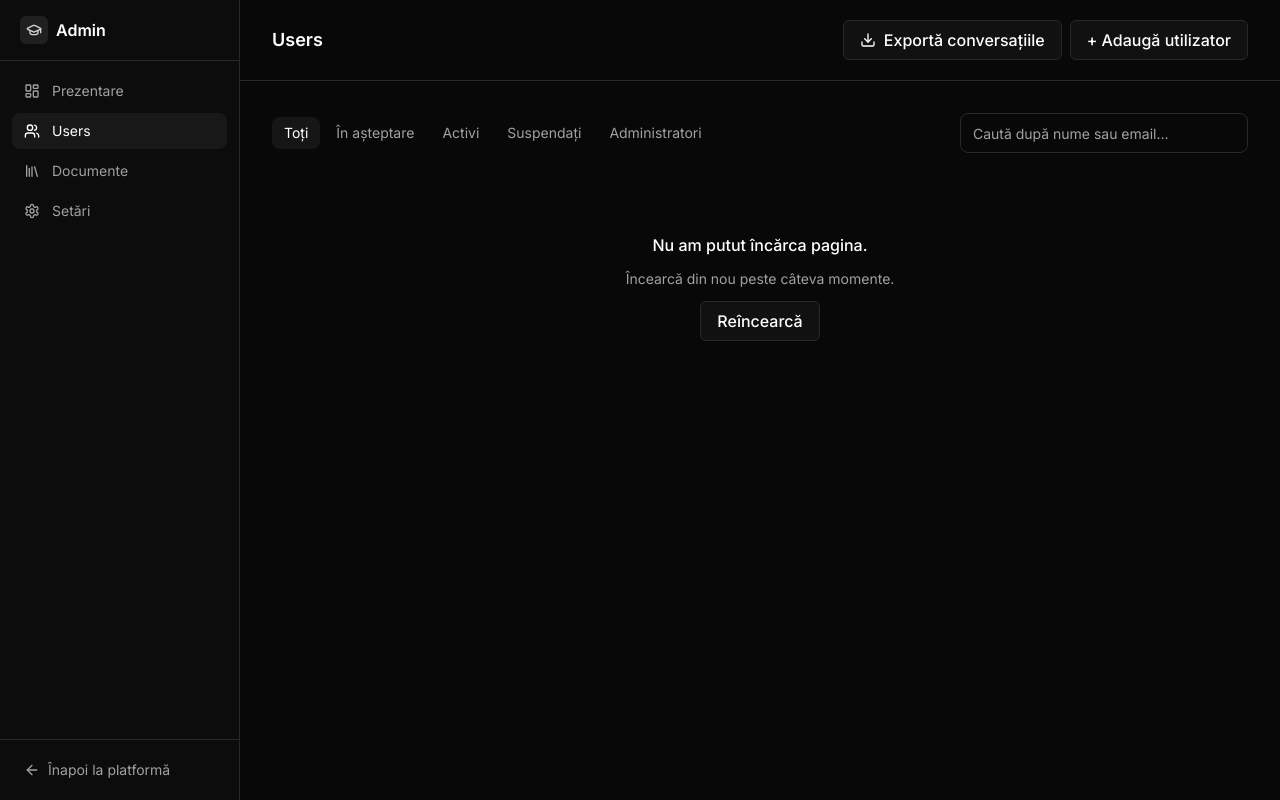
Test case: ADMIN-03 Users list › ADMIN-03 failed (S17): a list that cannot load shows an error with a retry, not “Niciun utilizator.”
Expected: the message shows "Nu am putut încărca pagina.", [652,235,868,255]
Click the button "Reîncearcă": (760, 321) [700,301,820,341]
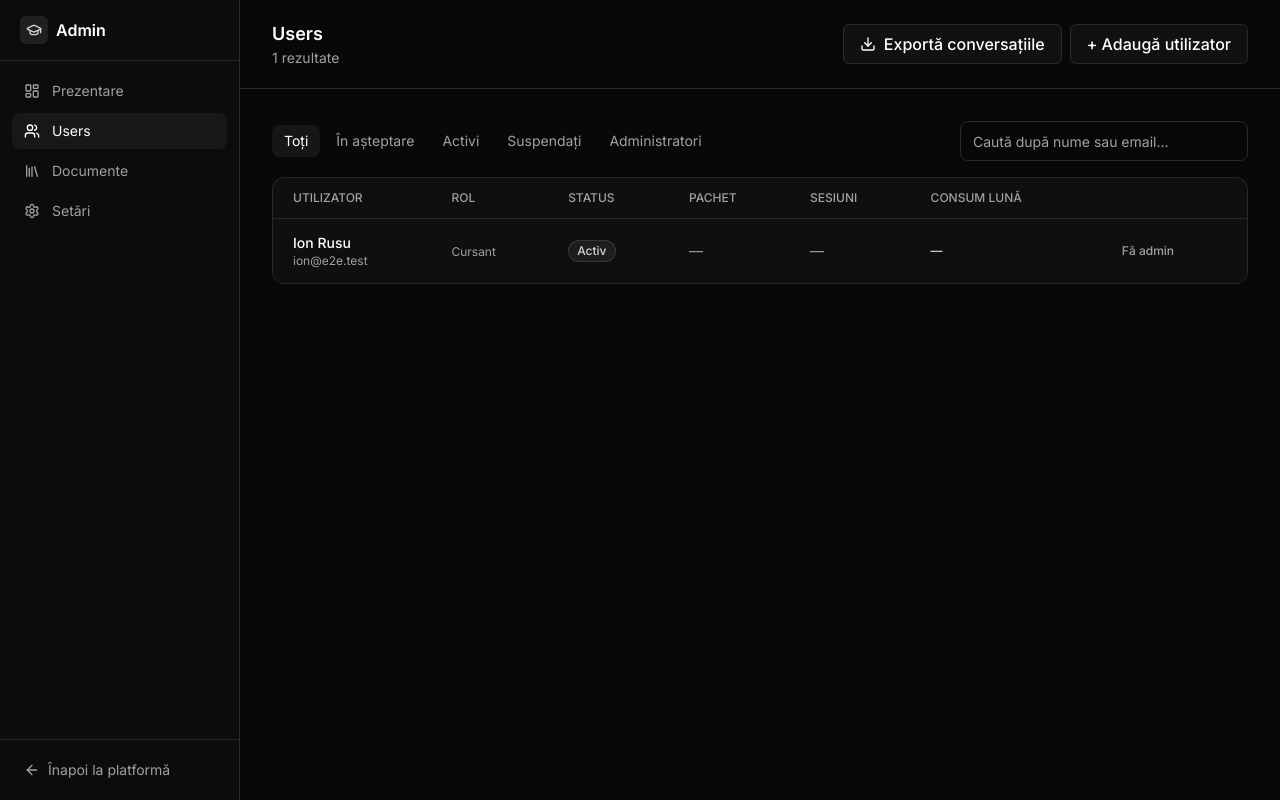
Result: the text "ion@e2e.test" is shown at [293,253,368,268]
Result: the message "Nu am putut încărca pagina. Încearcă din nou peste câteva momente. Reîncearcă" is gone
